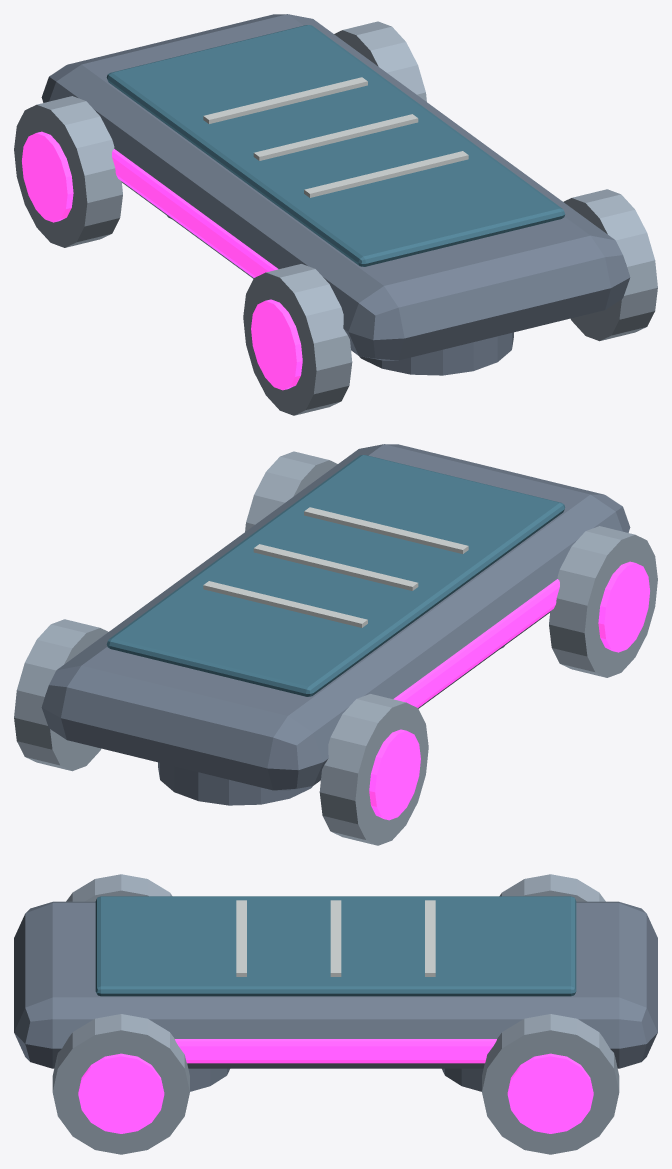
The model's file is glide-board.glb.
3 views of the same model, one above another, from view 1: azimuth 30°, elevation 25°; view 2: azimuth 150°, elevation 25°; view 3: azimuth 270°, elevation 25° (orthographic). The views are drawn at different scales.
Visible parts, largest first — view 1: Rounded carbon deck, Inset grip, Magnetic wheel, Illuminated edge, Grip crossbar; view 2: Rounded carbon deck, Inset grip, Magnetic wheel, Illuminated edge, Grip crossbar; view 3: Inset grip, Rounded carbon deck, Magnetic wheel, Illuminated edge, Grip crossbar.
Boxes of the visible parts, x1=… form: Rounded carbon deck: x1=41, y1=14, x2=630, y2=375; Inset grip: x1=106, y1=25, x2=565, y2=266; Magnetic wheel: x1=14, y1=21, x2=657, y2=415; Illuminated edge: x1=22, y1=131, x2=302, y2=390; Grip crossbar: x1=203, y1=77, x2=468, y2=197; Rounded carbon deck: x1=41, y1=444, x2=630, y2=805; Inset grip: x1=106, y1=455, x2=565, y2=696; Magnetic wheel: x1=14, y1=451, x2=657, y2=845; Illuminated edge: x1=369, y1=561, x2=649, y2=820; Grip crossbar: x1=203, y1=507, x2=468, y2=627; Inset grip: x1=95, y1=896, x2=576, y2=996; Rounded carbon deck: x1=14, y1=901, x2=657, y2=1091; Magnetic wheel: x1=52, y1=874, x2=619, y2=1154; Illuminated edge: x1=78, y1=1039, x2=593, y2=1133; Grip crossbar: x1=236, y1=900, x2=435, y2=976.
Bounding box in the file's own units: 0.89 × 0.36 × 1.5.
